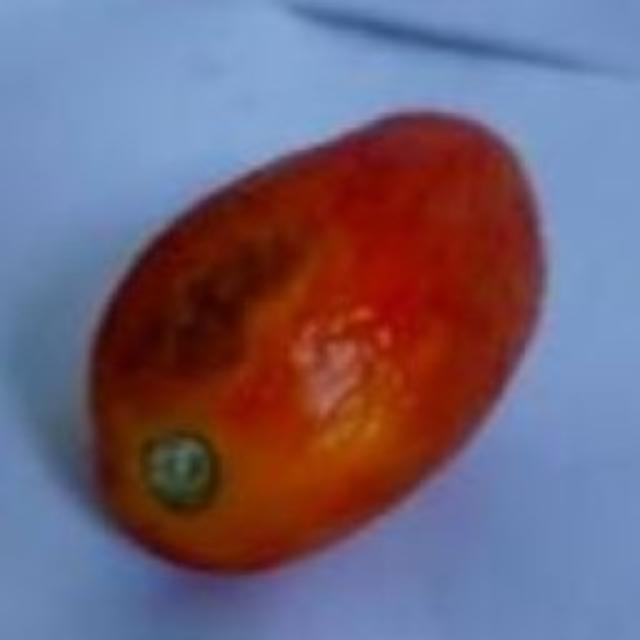defect: (82, 99, 554, 580)
